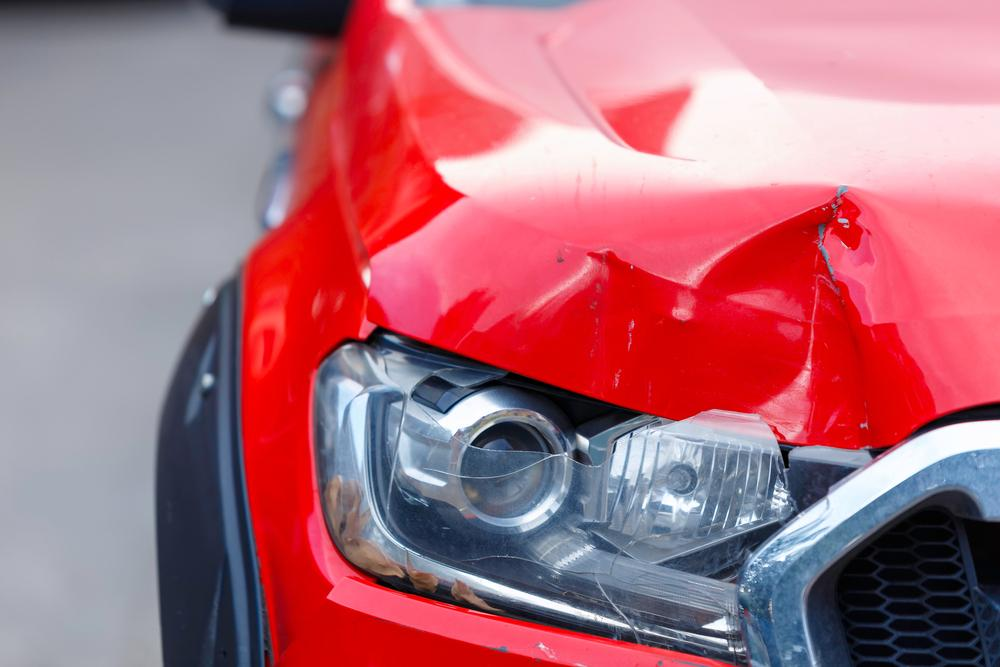dent: (451, 192, 910, 448)
lamp broken: (310, 329, 873, 665)
